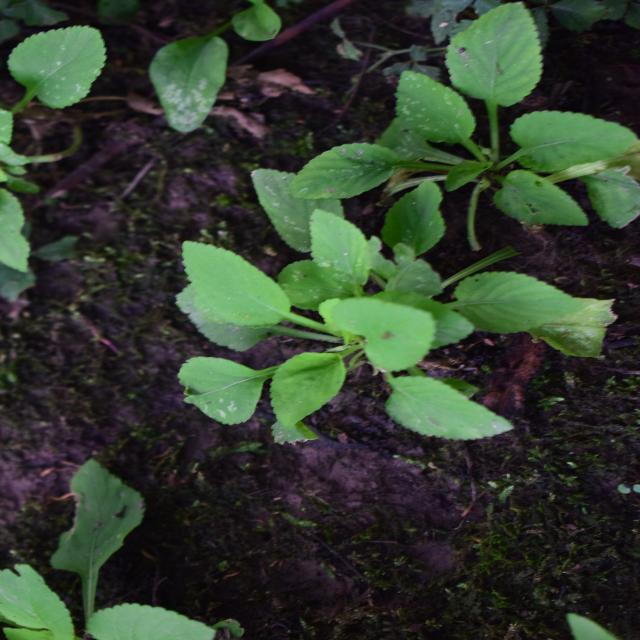Viola: (162, 172, 424, 532), (406, 300, 617, 605)
